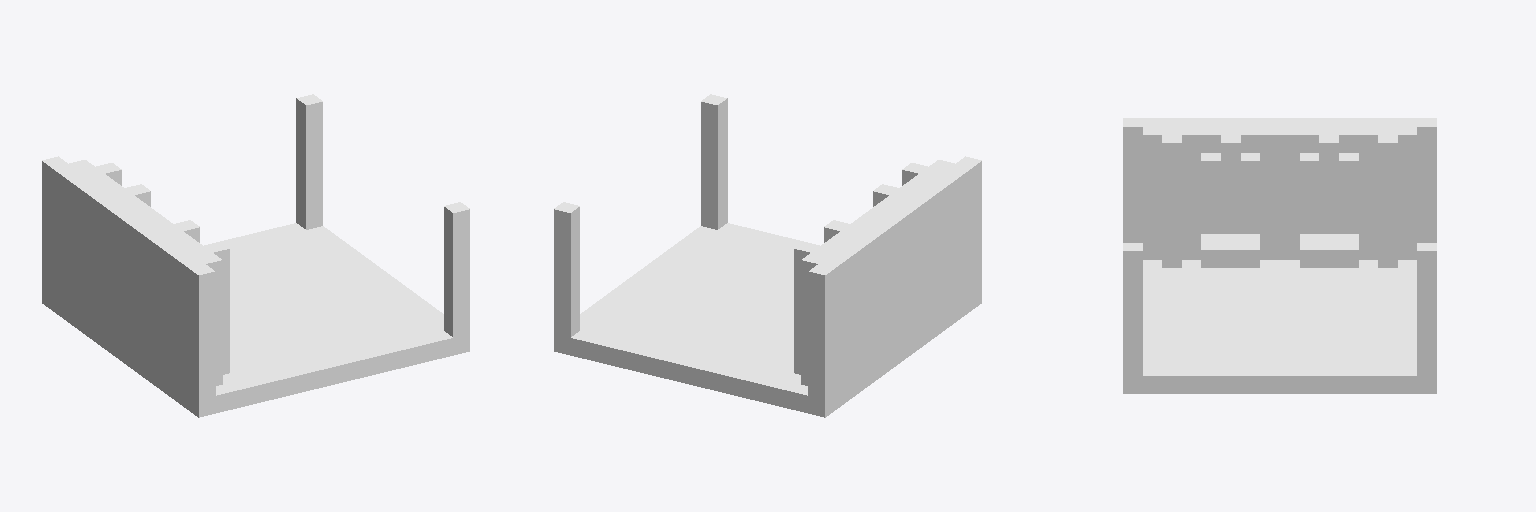
The model's file is towar-26.obj.
The picture shows the model from 3 angles: view 1: azimuth 30°, elevation 25°; view 2: azimuth 150°, elevation 25°; view 3: azimuth 270°, elevation 25°; orthographic projection.
Parts seen in each view (by area): view 1: towar-26; view 2: towar-26; view 3: towar-26.
Boxes of the visible parts, x1,y1,x2,y2 form: towar-26: [42, 94, 469, 417]; towar-26: [554, 94, 981, 417]; towar-26: [1123, 118, 1436, 393].
Bounding box in the file's own units: 16 × 8 × 16.